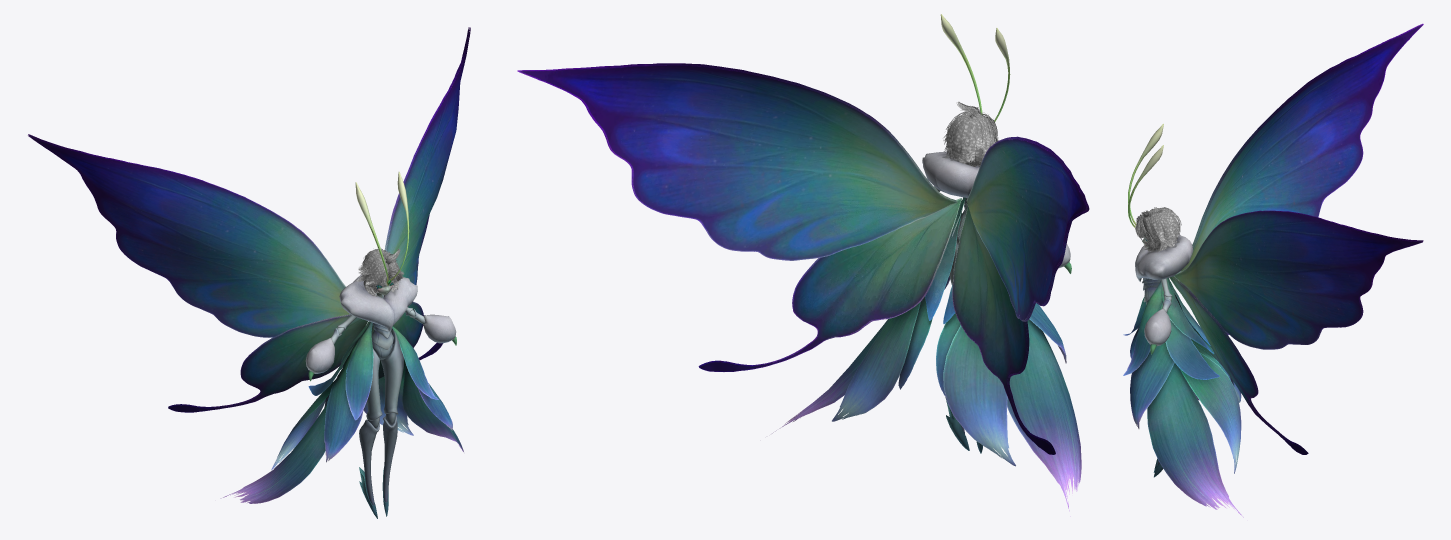
Rendered from somniwing.glb.
3 renders of one model, left to right at view 1: azimuth 30°, elevation 25°; view 2: azimuth 150°, elevation 25°; view 3: azimuth 270°, elevation 25°, orthographic. The views are drawn at different scales.
Parts seen in each view (by area): view 1: M_Parmon_10233_Body02_LOD1_1788277942.obj, M_Parmon_10233_Body_LOD1_1788277942.obj, M_Parmon_10233_Body01_LOD1_1788277942.obj, M_Parmon_10233_Body03_LOD1_1788277942.obj; view 2: M_Parmon_10233_Body03_LOD1_1788277942.obj, M_Parmon_10233_Body_LOD1_1788277942.obj, M_Parmon_10233_Body01_LOD1_1788277942.obj, M_Parmon_10233_Body02_LOD1_1788277942.obj; view 3: M_Parmon_10233_Body02_LOD1_1788277942.obj, M_Parmon_10233_Body_LOD1_1788277942.obj, M_Parmon_10233_Body03_LOD1_1788277942.obj, M_Parmon_10233_Body01_LOD1_1788277942.obj.
Boxes of the visible parts, x1,y1,x2,y2 form: M_Parmon_10233_Body02_LOD1_1788277942.obj: (28,27,470,412); M_Parmon_10233_Body_LOD1_1788277942.obj: (28,27,469,518); M_Parmon_10233_Body01_LOD1_1788277942.obj: (356,248,403,296); M_Parmon_10233_Body03_LOD1_1788277942.obj: (28,27,468,407); M_Parmon_10233_Body03_LOD1_1788277942.obj: (519,65,1086,454); M_Parmon_10233_Body_LOD1_1788277942.obj: (518,14,1087,516); M_Parmon_10233_Body01_LOD1_1788277942.obj: (943,101,998,166); M_Parmon_10233_Body02_LOD1_1788277942.obj: (517,63,1089,454); M_Parmon_10233_Body02_LOD1_1788277942.obj: (1169,23,1422,454); M_Parmon_10233_Body_LOD1_1788277942.obj: (1123,24,1423,517); M_Parmon_10233_Body03_LOD1_1788277942.obj: (1173,24,1423,453); M_Parmon_10233_Body01_LOD1_1788277942.obj: (1135,207,1181,252).
Bounding box in the file's own units: 2.48 × 1.85 × 1.48.
3 materials, 3 textured.
